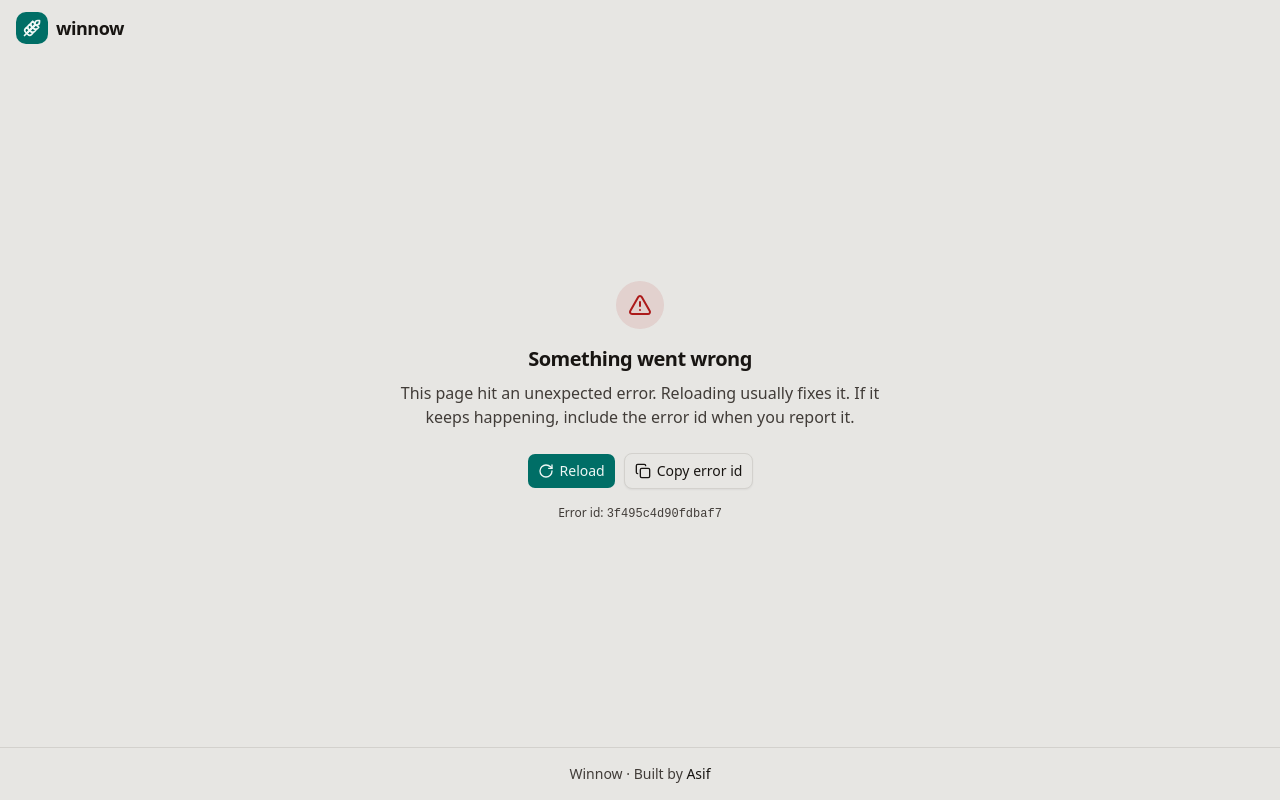
Test: error pages › copying the error id confirms it
The image size is (1280, 800).
Click the button "Copy error id" at (689, 471), box [624,453,753,489]
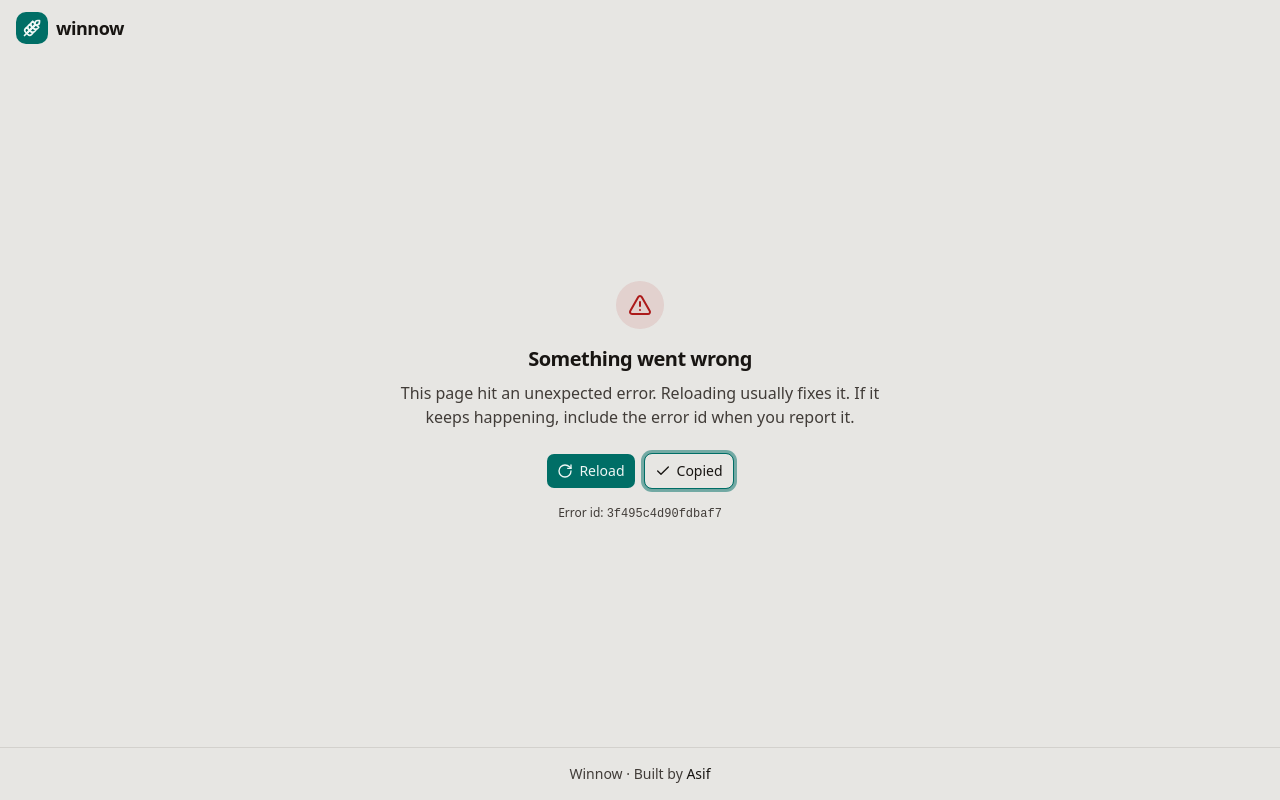
Now the button "Copied" is shown, box [644,453,734,489]
